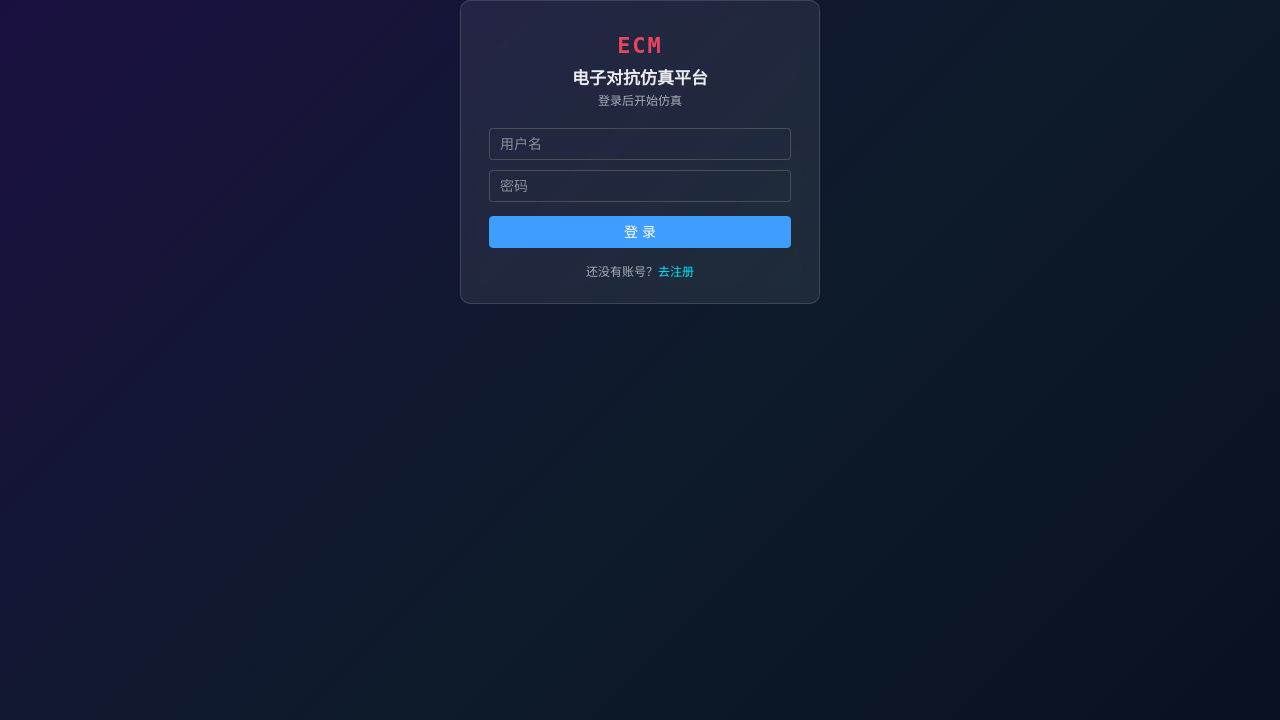
Test: LoginView › 注册失败（用户名已存在）时展示后端文案且不跳转
The image size is (1280, 720).
Click the button with class "mode-switch". click: (676, 270)
box: [658,262,694,279]
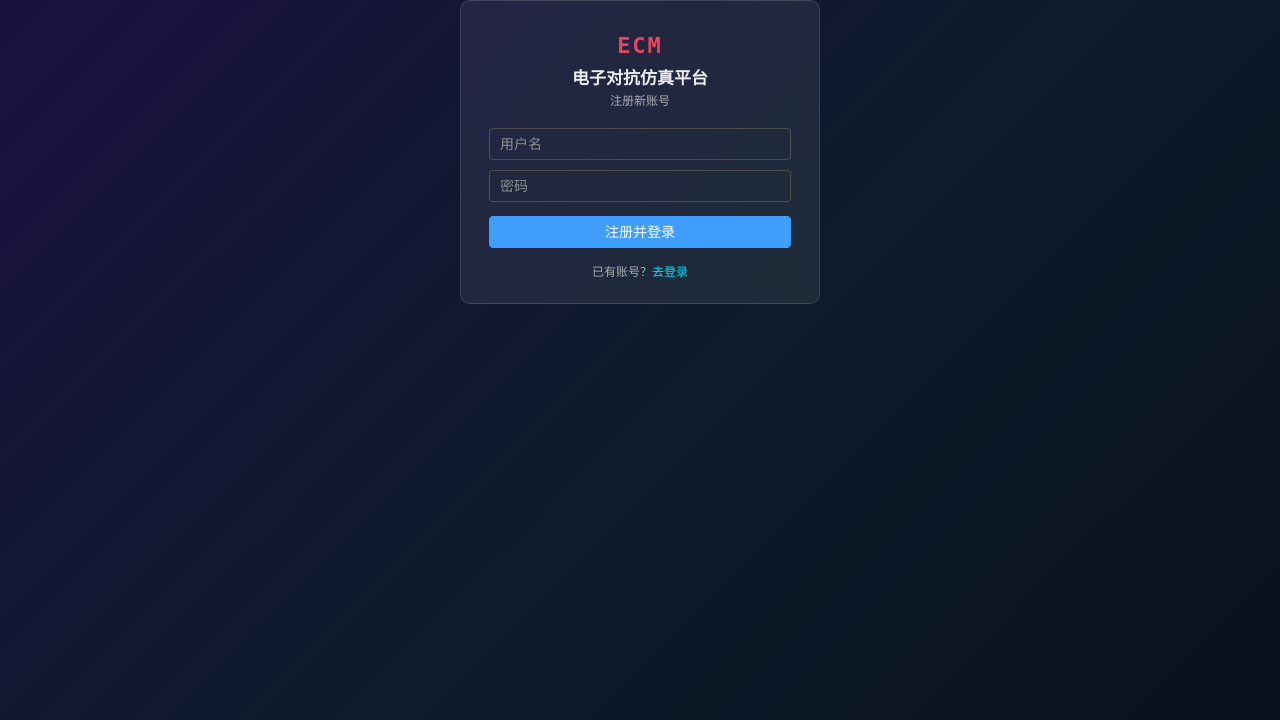
Type "alice" into the field with placeholder "用户名". click: (640, 144)
box: [500,129,780,159]
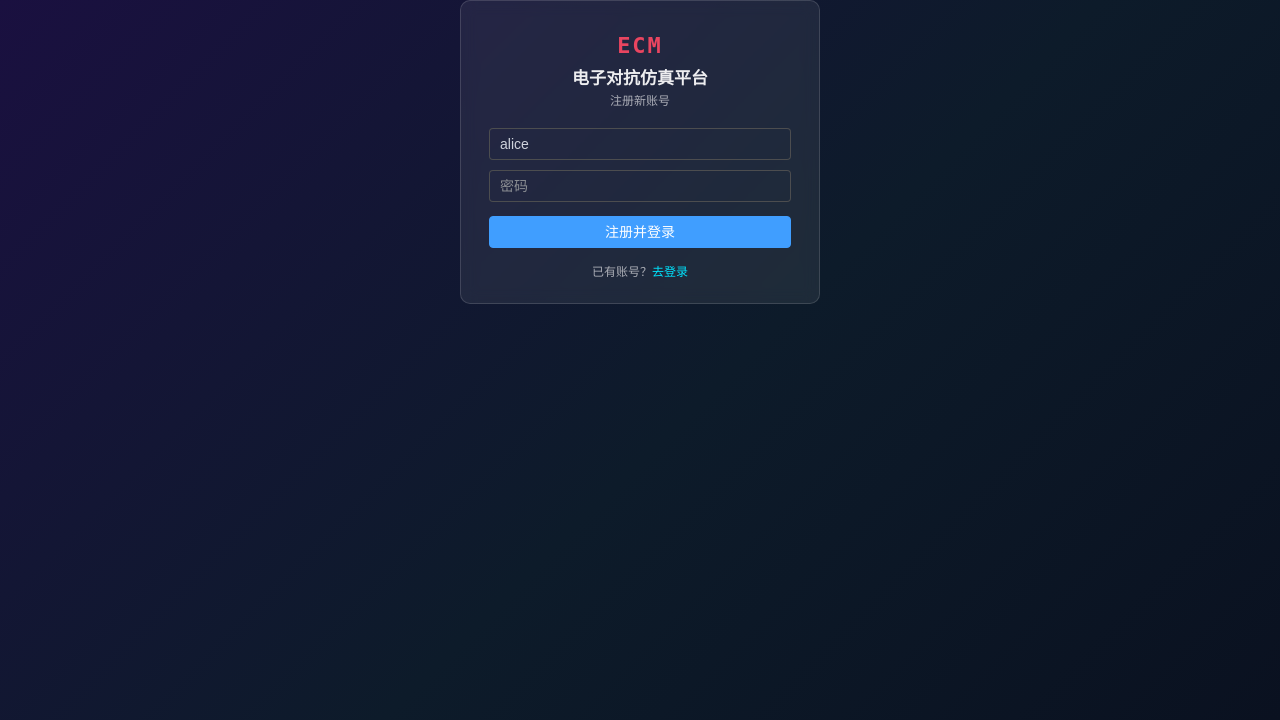
Type "secret123" into the password field with placeholder "密码". click: (640, 186)
box: [500,171,780,201]
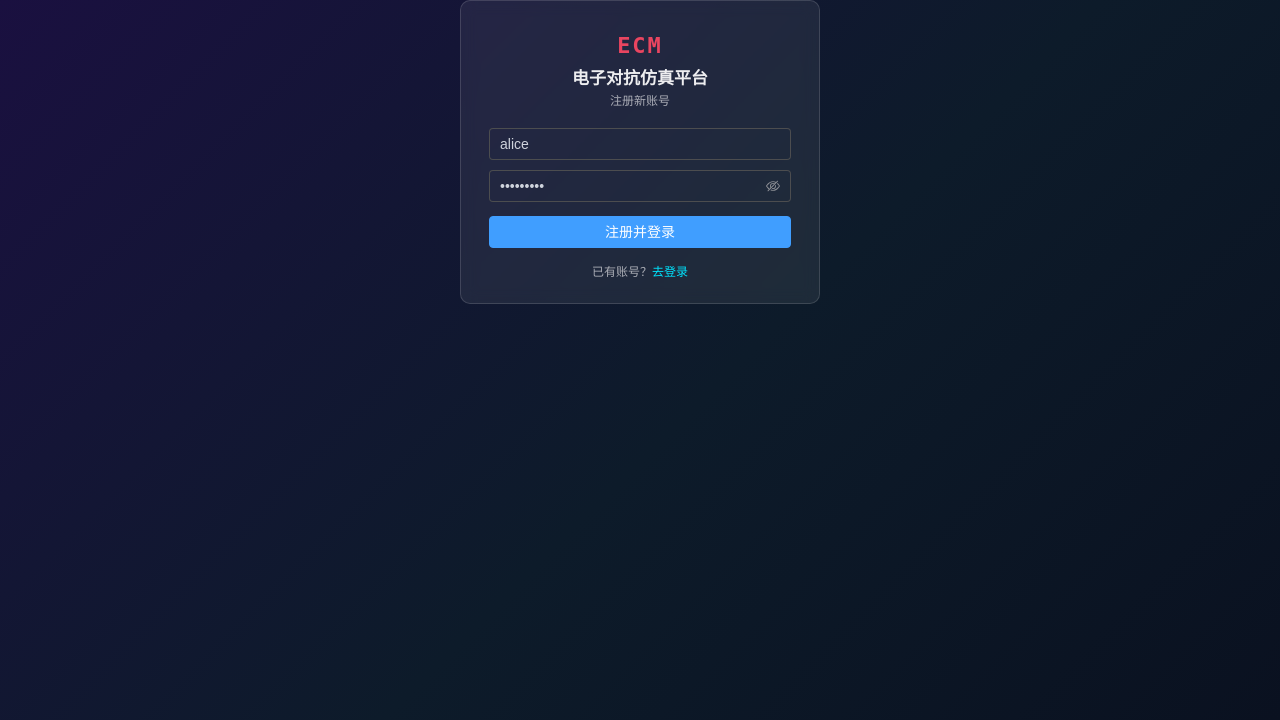
Click the button with class "submit-btn". click: (640, 232)
box: [489,216,791,248]
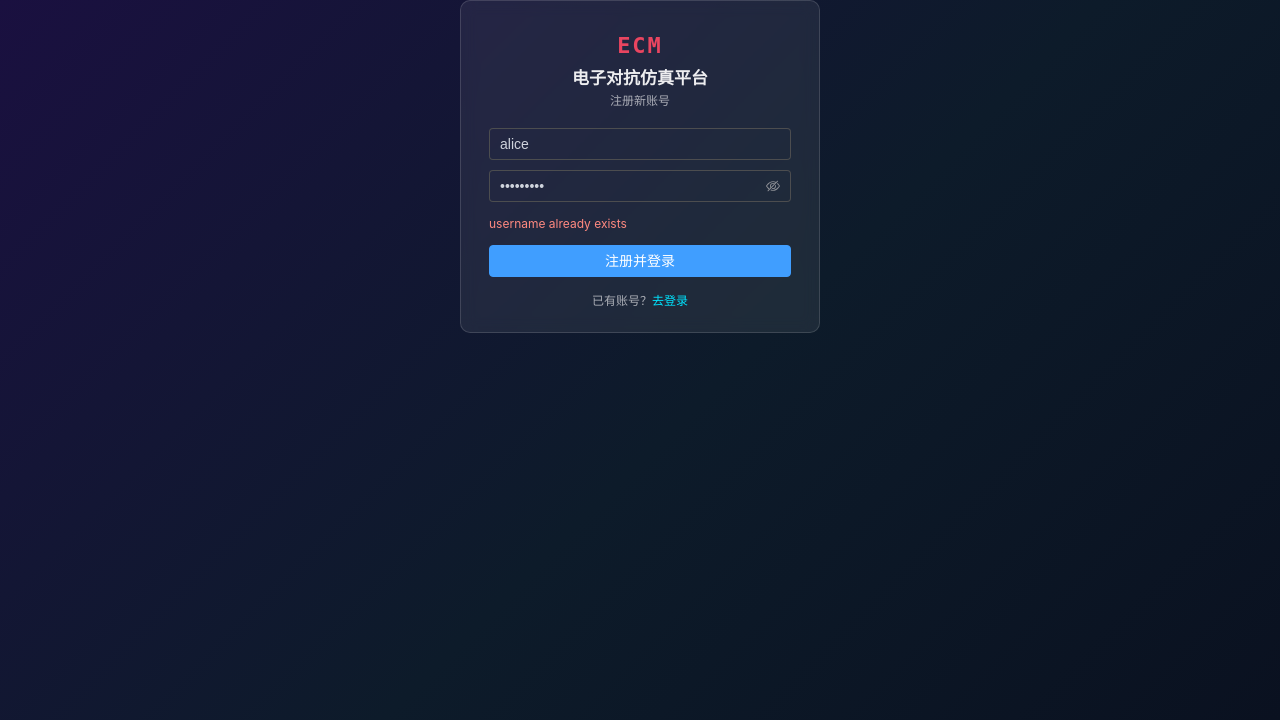
Result: the message with class "form-error" reads "username already exists" at [489,216,627,231]
